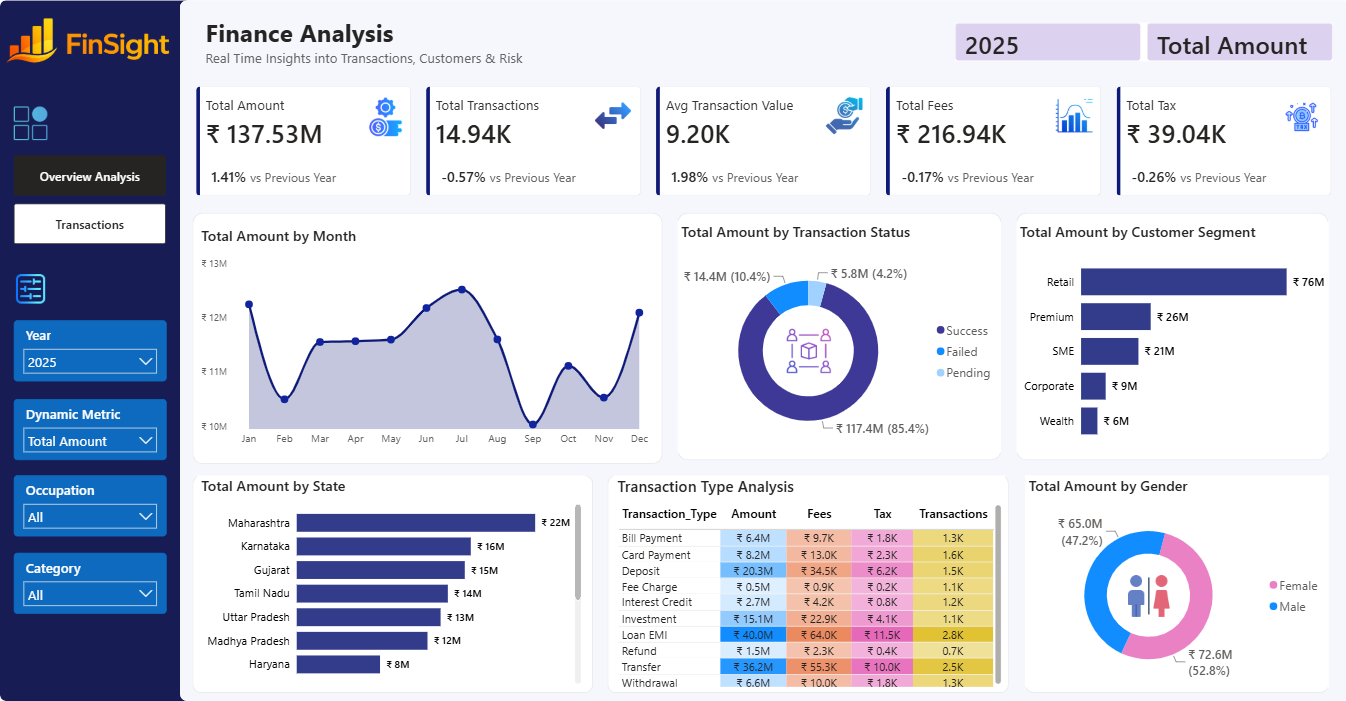

This screenshot's page, from the dashboard's own definition file:
{"tool":"powerbi","page":{"name":"Overview Analysis","canvas":[1800,950],"ordinal":0},"visuals":[{"type":"shape","box":[13.5,15.4,250.9,916.6],"z":0},{"type":"shape","box":[248.9,15.4,1530,916.6],"z":1000},{"type":"image","box":[13.5,15.4,235.4,106.1],"z":2000},{"type":"cardVisual","fields":{"Data":["Calendar.Dashboard Title"]},"box":[264.4,15.4,455.4,106.1],"z":3000},{"type":"cardVisual","fields":{"Data":["finance_transactions.Total Amount","finance_transactions.Total Transactions","finance_transactions.Avg Transaction Value","finance_transactions.Total Fees","finance_transactions.Total Tax"]},"box":[263.3,121,1499.5,155.3],"z":4000},{"type":"slicer","fields":{"Values":["Calendar.Year"]},"box":[31.1,433.3,200,80],"z":5000},{"type":"image","box":[492.2,136.2,50,63.3],"z":6000},{"type":"image","box":[790,134.1,50,63.3],"z":7000},{"type":"image","box":[1092.6,134.1,50,63.3],"z":8000},{"type":"image","box":[1393.7,134.1,50,63.3],"z":9000},{"type":"image","box":[1691.4,136.2,50,63.3],"z":10000},{"type":"slicer","fields":{"Values":["Dynamic Metric.Dynamic Metric"]},"box":[31.1,536.3,200,80],"z":11000},{"type":"shape","box":[264.9,292.7,614.8,328.7],"z":12000},{"type":"areaChart","fields":{"Y":["finance_transactions.Total Amount"],"Category":["Calendar.Month"]},"box":[271.4,309,601.7,297.6],"z":13000},{"type":"cardVisual","fields":{"Data":["finance_transactions.Selected Year","finance_transactions.Selected Dynamic Measure"]},"box":[1257.5,39.2,505,60],"z":14000},{"type":"shape","box":[899.3,292.7,423.5,323.8],"z":15000},{"type":"donutChart","title":"Total Amount by Transaction Status","fields":{"Y":["finance_transactions.Total Amount"],"Category":["finance_transactions.transaction_status"]},"box":[899.3,304.1,423.5,302.5],"z":16000},{"type":"shape","box":[1342.5,292.7,408,323.8],"z":17000},{"type":"barChart","title":"Total Amount by Customer Segment","fields":{"Y":["finance_transactions.Total Amount"],"Category":["customers csv.customer_segment"]},"box":[1342.5,304.1,408.8,302.5],"z":18000},{"type":"shape","box":[264.9,636.1,524,285],"z":19000},{"type":"barChart","title":"Total Amount by State","fields":{"Y":["finance_transactions.Total Amount"],"Category":["customers csv.state"]},"box":[271.4,636.1,506.9,278],"z":20000},{"type":"shape","box":[807.8,636.1,525,285],"z":21000},{"type":"tableEx","title":"Transaction Type Analysis","fields":{"Values":["finance_transactions.transaction_type","finance_transactions.Total Amount","finance_transactions.Total Fees","finance_transactions.Total Tax","finance_transactions.Total Transactions"]},"box":[816,636.1,512,282],"z":22000},{"type":"shape","box":[1353.9,636.1,397.3,284.5],"z":23000},{"type":"donutChart","title":"Total Amount by Gender","fields":{"Y":["finance_transactions.Total Amount"],"Category":["customers csv.gender"]},"box":[1353.9,636.1,397.3,278],"z":24000},{"type":"image","box":[1040,439.9,62.1,67],"z":25000},{"type":"image","box":[1484.7,760.4,62.1,67],"z":26000},{"type":"slicer","fields":{"Values":["customers csv.occupation"]},"box":[31.1,636.1,200,80],"z":27000},{"type":"slicer","fields":{"Values":["finance_transactions.merchant_category"]},"box":[31.1,737.5,200,80],"z":28000},{"type":"pageNavigator","box":[31.1,217.5,199.5,117.7],"z":29000},{"type":"image","box":[31.1,152.1,44.1,47.4],"z":30000},{"type":"image","box":[31.1,366.3,44.1,52.3],"z":31000}]}

Visuals, with their boxes on the page's 1800x950 design canvas (x1, y1, x2, y2). These are canvas units, not pixel positions in the 1346x701 screenshot, which may show the page scaled, cropped or inside an application window:
shape: box=[14, 15, 264, 932]
shape: box=[249, 15, 1779, 932]
image: box=[14, 15, 249, 122]
cardVisual - Calendar.Dashboard Title: box=[264, 15, 720, 122]
cardVisual - finance_transactions.Total Amount x finance_transactions.Total Transactions: box=[263, 121, 1763, 276]
slicer - Calendar.Year: box=[31, 433, 231, 513]
image: box=[492, 136, 542, 200]
image: box=[790, 134, 840, 197]
image: box=[1093, 134, 1143, 197]
image: box=[1394, 134, 1444, 197]
image: box=[1691, 136, 1741, 200]
slicer - Dynamic Metric.Dynamic Metric: box=[31, 536, 231, 616]
shape: box=[265, 293, 880, 621]
areaChart - finance_transactions.Total Amount x Calendar.Month: box=[271, 309, 873, 607]
cardVisual - finance_transactions.Selected Year x finance_transactions.Selected Dynamic Measure: box=[1258, 39, 1762, 99]
shape: box=[899, 293, 1323, 616]
"Total Amount by Transaction Status" donutChart: box=[899, 304, 1323, 607]
shape: box=[1342, 293, 1750, 616]
"Total Amount by Customer Segment" barChart: box=[1342, 304, 1751, 607]
shape: box=[265, 636, 789, 921]
"Total Amount by State" barChart: box=[271, 636, 778, 914]
shape: box=[808, 636, 1333, 921]
"Transaction Type Analysis" tableEx: box=[816, 636, 1328, 918]
shape: box=[1354, 636, 1751, 921]
"Total Amount by Gender" donutChart: box=[1354, 636, 1751, 914]
image: box=[1040, 440, 1102, 507]
image: box=[1485, 760, 1547, 827]
slicer - customers csv.occupation: box=[31, 636, 231, 716]
slicer - finance_transactions.merchant_category: box=[31, 738, 231, 818]
pageNavigator: box=[31, 218, 231, 335]
image: box=[31, 152, 75, 200]
image: box=[31, 366, 75, 419]
